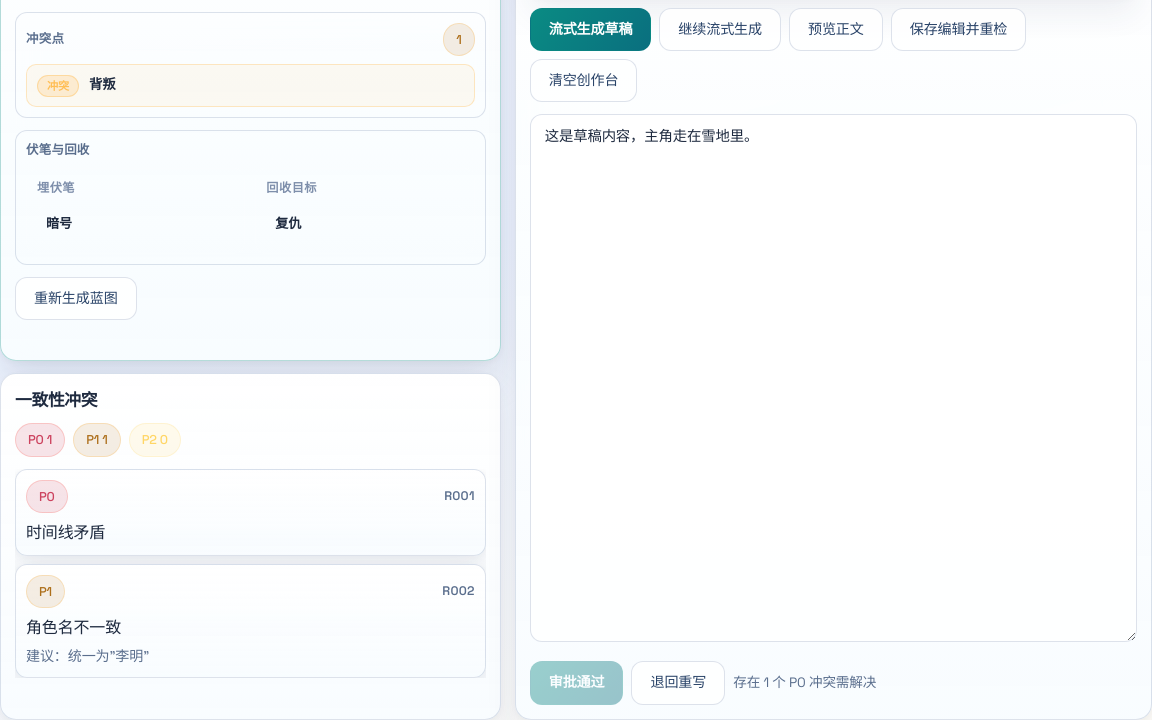
ChapterWorkbenchPage › 自动保存 › 编辑模式下输入内容后显示已自动保存提示
(page scrolled)
expect the button "预览正文" is shown: met, box [789,8,883,51]
Replace the text in the text box with "修改后的草稿内容" at (833, 378), box [530,114,1137,642]
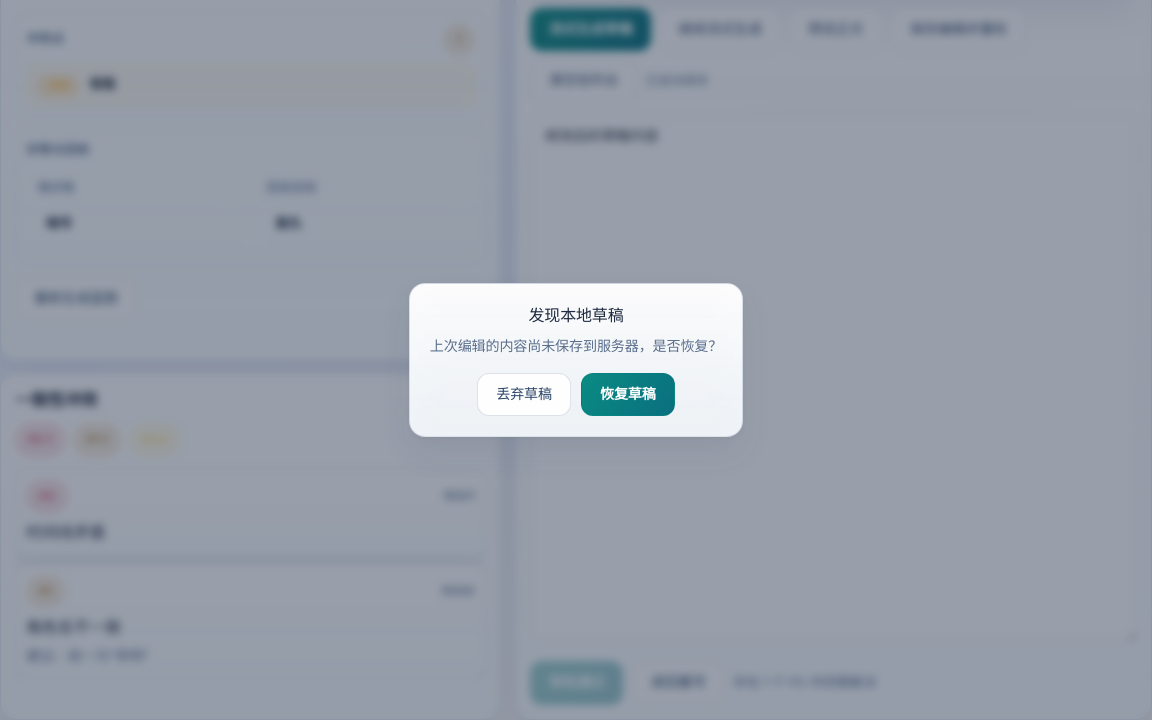
expect the text "已自动保存" is shown: met, box [645,71,709,90]
